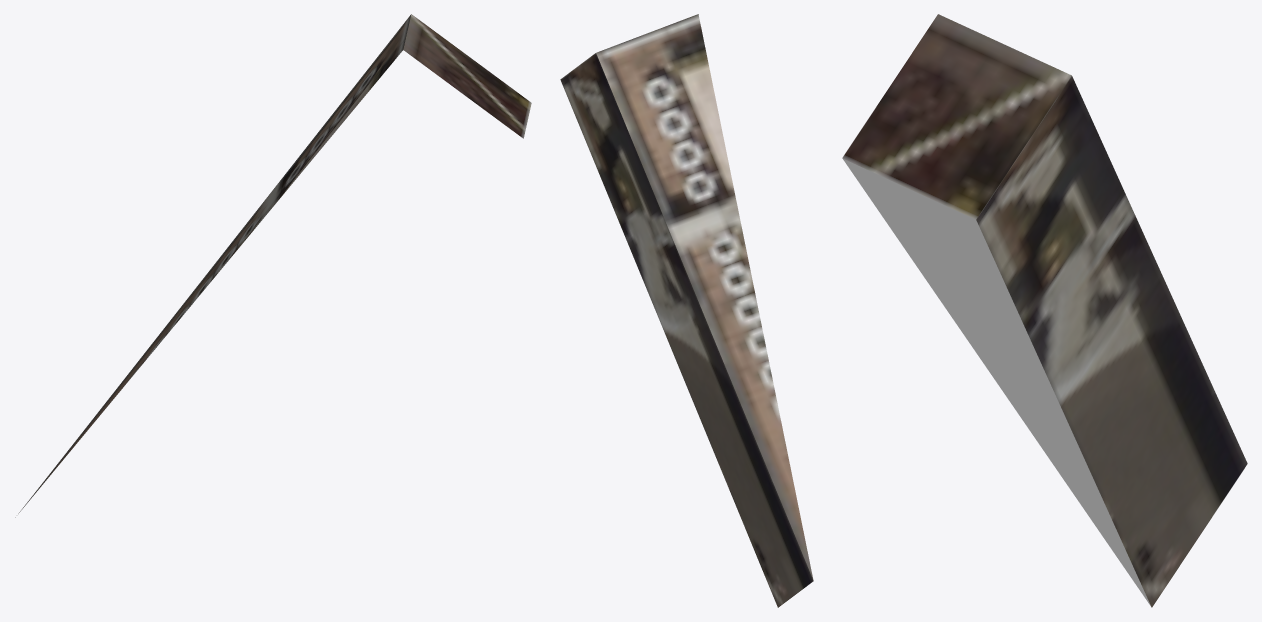
The model's file is 19773_bldg_Building.glb.
The picture shows the model from 3 angles, left to right: view 1: azimuth 30°, elevation 25°; view 2: azimuth 150°, elevation 25°; view 3: azimuth 270°, elevation 25°; orthographic projection. The views are drawn at different scales.
Size of the model in its own units: 33.77 by 46.07 by 24.17.
3 materials, 2 textured.
